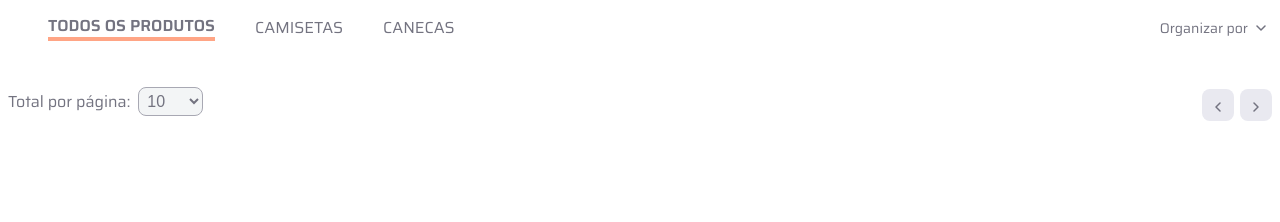
Scenario: FilterBar › should render FilterBar correctly with click organize by
Click the button "Organizar por".
click(1213, 28)  # box [1154,16,1272,40]
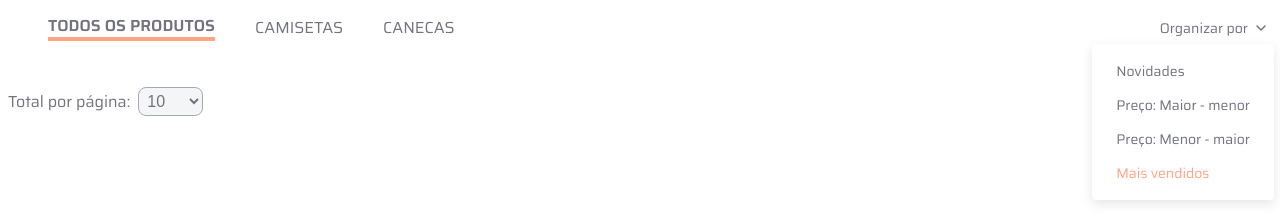
Check: the list item "Preço: Maior - menor" is shown, box [1108,90,1258,120]
